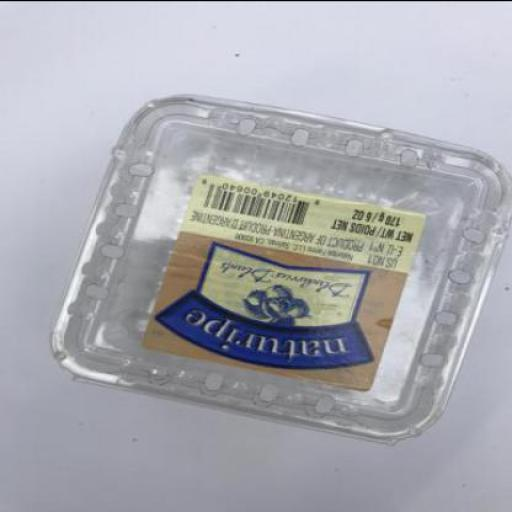plastic: (54, 90, 512, 440)
